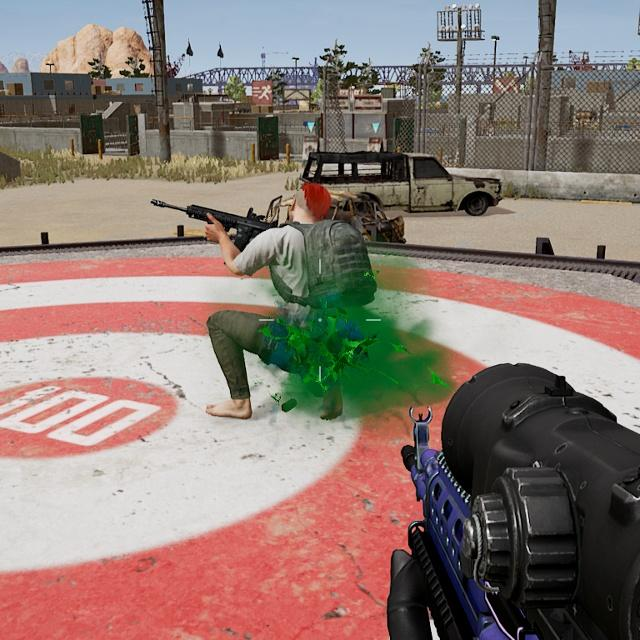head: (285, 178, 336, 226)
people: (203, 177, 380, 430)
